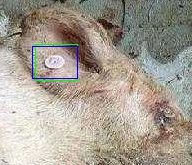text: (35, 44, 77, 80)
